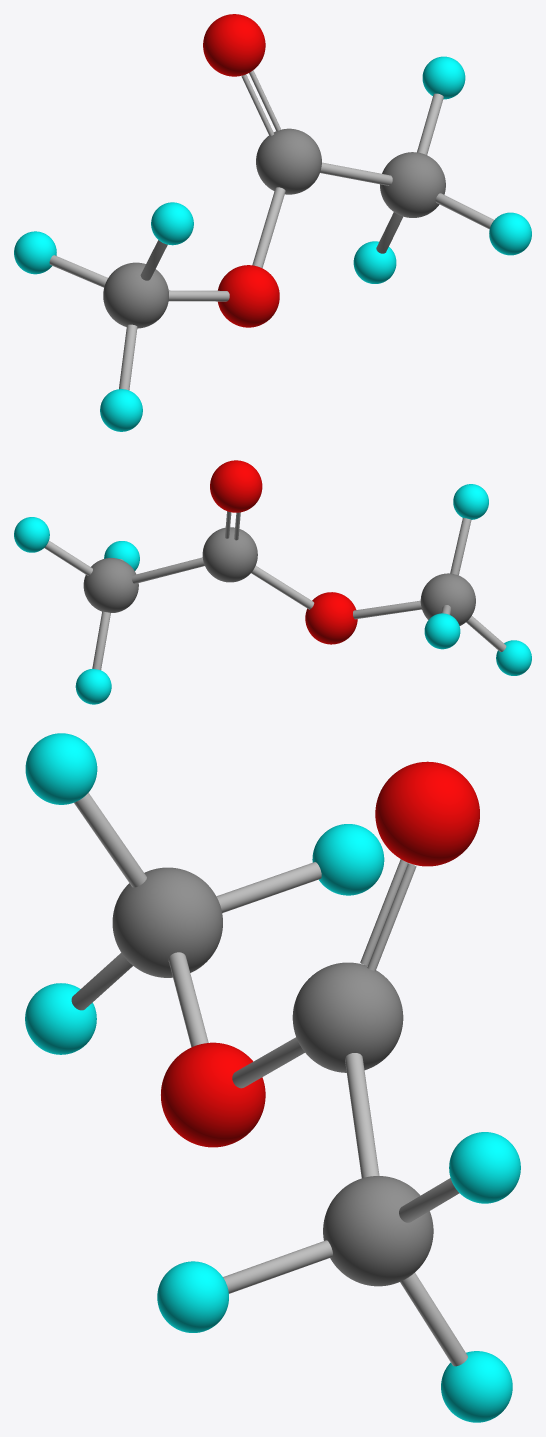
The model's file is methyl acetate.glb.
The picture shows the model from 3 angles, top to bottom: view 1: azimuth 30°, elevation 25°; view 2: azimuth 150°, elevation 25°; view 3: azimuth 270°, elevation 25°; orthographic projection. The views are drawn at different scales.
Parts seen in each view (by area): view 1: CMAtom_0, CMAtom_2, CMAtom_7, CMAtom_1, CMAtom_6, CMAtom_3, CMAtom_9, CMAtom_8, CMAtom_4, CMAtom_10, CMAtom_5, CMBond_9_Segment_0 (+6 smaller); view 2: CMAtom_0, CMAtom_2, CMAtom_1, CMAtom_6, CMAtom_7, CMAtom_10, CMAtom_5, CMAtom_4, CMAtom_8, CMAtom_9, CMBond_11_Segment_0, CMBond_9_Segment_0 (+6 smaller); view 3: CMAtom_0, CMAtom_7, CMAtom_2, CMAtom_1, CMAtom_6, CMAtom_8, CMAtom_4, CMAtom_3, CMAtom_10, CMAtom_5, CMAtom_9, CMBond_11_Segment_0 (+10 smaller).
Part boxes in pixels (x1=…): CMAtom_0: x1=256, y1=128, x2=321, y2=194; CMAtom_2: x1=380, y1=152, x2=445, y2=217; CMAtom_7: x1=103, y1=262, x2=168, y2=328; CMAtom_1: x1=203, y1=14, x2=265, y2=76; CMAtom_6: x1=218, y1=265, x2=279, y2=327; CMAtom_3: x1=489, y1=212, x2=531, y2=255; CMAtom_9: x1=100, y1=389, x2=142, y2=431; CMAtom_8: x1=151, y1=202, x2=193, y2=245; CMAtom_4: x1=422, y1=56, x2=465, y2=99; CMAtom_10: x1=14, y1=231, x2=56, y2=274; CMAtom_5: x1=353, y1=241, x2=396, y2=283; CMBond_9_Segment_0: x1=252, y1=187, x2=285, y2=268; CMAtom_0: x1=202, y1=527, x2=257, y2=582; CMAtom_2: x1=83, y1=558, x2=138, y2=612; CMAtom_1: x1=210, y1=460, x2=262, y2=512; CMAtom_6: x1=305, y1=592, x2=357, y2=644; CMAtom_7: x1=420, y1=573, x2=475, y2=625; CMAtom_10: x1=424, y1=613, x2=460, y2=649; CMAtom_5: x1=75, y1=668, x2=111, y2=704; CMAtom_4: x1=14, y1=517, x2=49, y2=552; CMAtom_8: x1=453, y1=484, x2=488, y2=519; CMAtom_9: x1=496, y1=640, x2=531, y2=675; CMBond_11_Segment_0: x1=131, y1=557, x2=204, y2=583; CMBond_9_Segment_0: x1=251, y1=566, x2=314, y2=609; CMAtom_0: x1=292, y1=962, x2=403, y2=1072; CMAtom_7: x1=112, y1=867, x2=222, y2=977; CMAtom_2: x1=323, y1=1176, x2=433, y2=1286; CMAtom_1: x1=375, y1=761, x2=479, y2=866; CMAtom_6: x1=161, y1=1042, x2=265, y2=1147; CMAtom_8: x1=25, y1=733, x2=97, y2=804; CMAtom_4: x1=449, y1=1132, x2=520, y2=1203; CMAtom_3: x1=157, y1=1261, x2=228, y2=1332; CMAtom_10: x1=312, y1=824, x2=384, y2=895; CMAtom_5: x1=441, y1=1351, x2=512, y2=1422; CMAtom_9: x1=25, y1=983, x2=96, y2=1054; CMBond_11_Segment_0: x1=345, y1=1053, x2=379, y2=1178.
Bounding box in the file's own units: 5.24 × 3.23 × 2.76.
